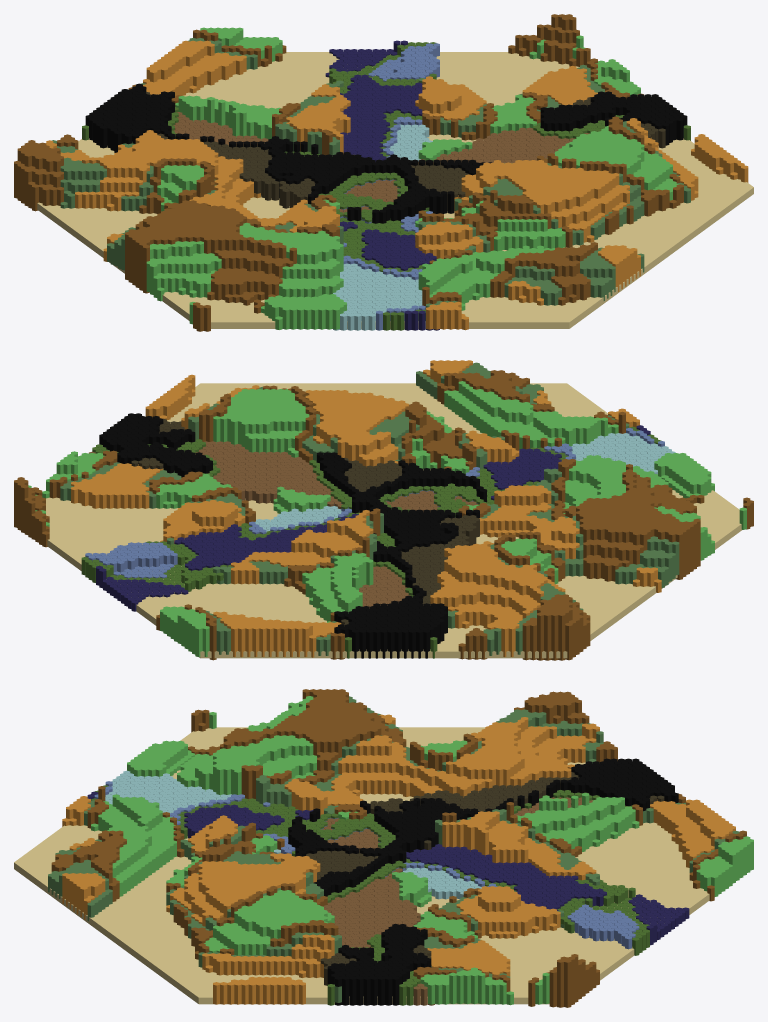
File: 0023_tile_1021012.fbx
3 views of the same model, one above another, from view 1: azimuth 30°, elevation 25°; view 2: azimuth 150°, elevation 25°; view 3: azimuth 270°, elevation 25° (orthographic).
Visible parts, largest first — view 1: Plane; view 2: Plane; view 3: Plane.
Part boxes in pixels (box(x1,y1,x2,y2)): Plane: box(14, 14, 753, 331); Plane: box(14, 360, 753, 660); Plane: box(14, 689, 753, 1007).
Size of the model in its own units: 1008 by 77.59 by 1152.
